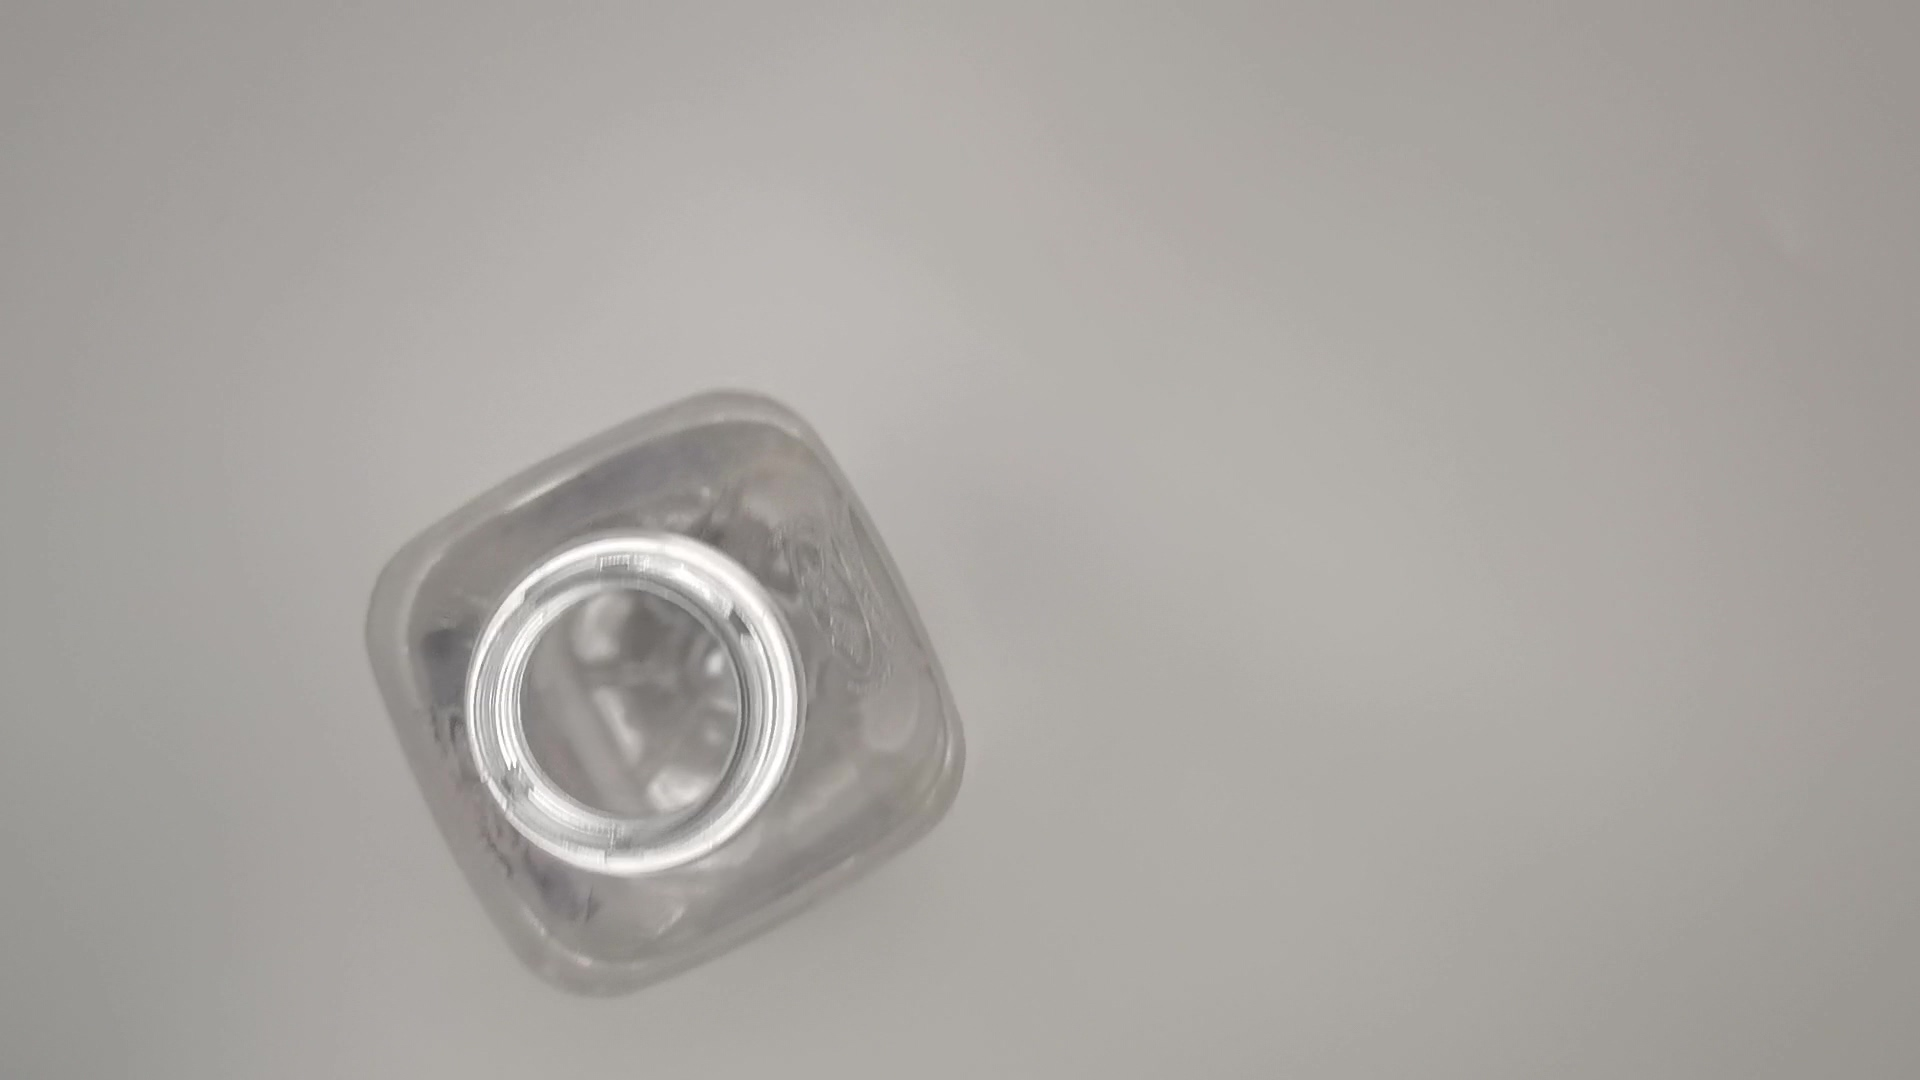bottle: (349, 386, 975, 1011)
